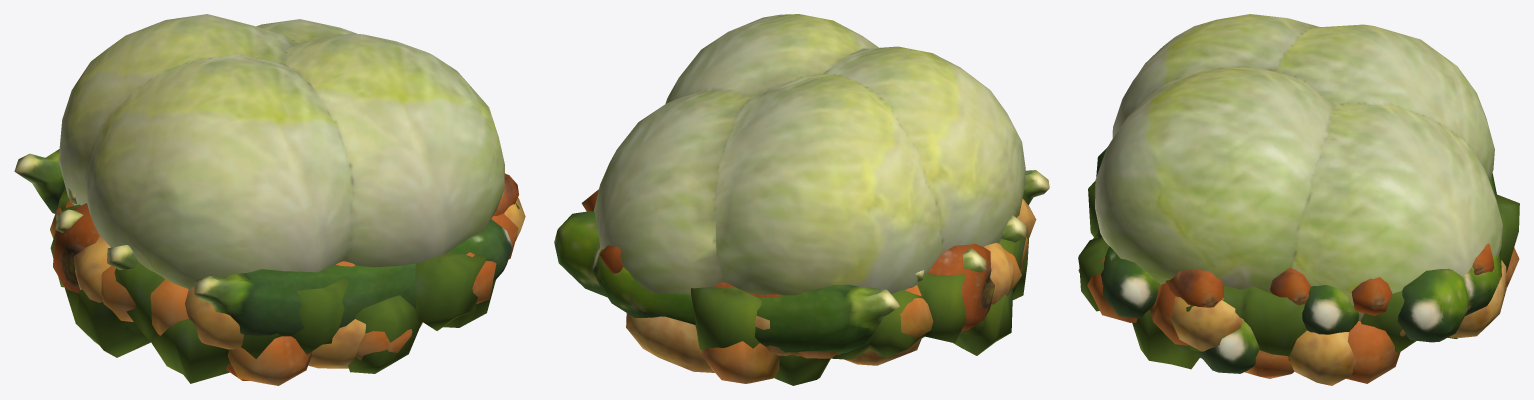
Rendered from food_heaps.glb.
The picture shows the model from 3 angles, left to right: view 1: azimuth 30°, elevation 25°; view 2: azimuth 150°, elevation 25°; view 3: azimuth 270°, elevation 25°; orthographic projection. The views are drawn at different scales.
Visible parts, largest first — view 1: heap_cabbage, heap_chili, heap_zucchini, heap_onion_y, heap_potato, heap_carrot; view 2: heap_cabbage, heap_zucchini, heap_chili, heap_potato, heap_onion_y, heap_carrot; view 3: heap_cabbage, heap_zucchini, heap_chili, heap_potato, heap_onion_y, heap_carrot.
Boxes of the visible parts, x1=… form: heap_cabbage: x1=58, y1=14, x2=504, y2=289; heap_chili: x1=50, y1=187, x2=519, y2=383; heap_zucchini: x1=14, y1=149, x2=512, y2=336; heap_onion_y: x1=50, y1=200, x2=518, y2=385; heap_potato: x1=73, y1=198, x2=525, y2=368; heap_carrot: x1=53, y1=173, x2=518, y2=380; heap_cabbage: x1=593, y1=14, x2=1025, y2=295; heap_zucchini: x1=554, y1=170, x2=1049, y2=353; heap_chili: x1=691, y1=234, x2=1028, y2=385; heap_potato: x1=626, y1=199, x2=1036, y2=372; heap_onion_y: x1=701, y1=236, x2=1028, y2=383; heap_carrot: x1=581, y1=189, x2=994, y2=354; heap_cabbage: x1=1095, y1=14, x2=1502, y2=321; heap_zucchini: x1=1096, y1=147, x2=1501, y2=373; heap_chili: x1=1078, y1=180, x2=1519, y2=369; heap_potato: x1=1171, y1=260, x2=1506, y2=385; heap_onion_y: x1=1078, y1=247, x2=1519, y2=383; heap_carrot: x1=1165, y1=243, x2=1494, y2=315.
Size of the model in its own units: 0.9323 by 0.5813 by 0.9151.
1 material, 1 textured.
